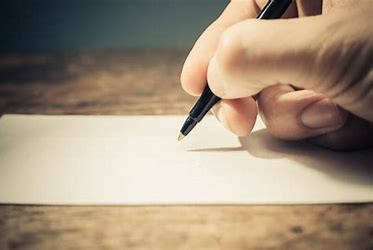pen: (180, 1, 297, 140)
